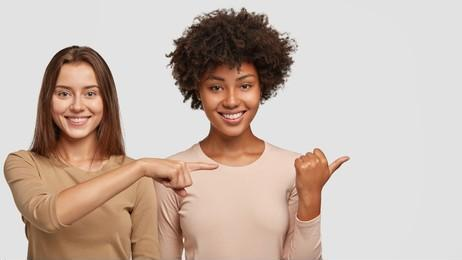face: (197, 58, 262, 137), (50, 62, 105, 139)
